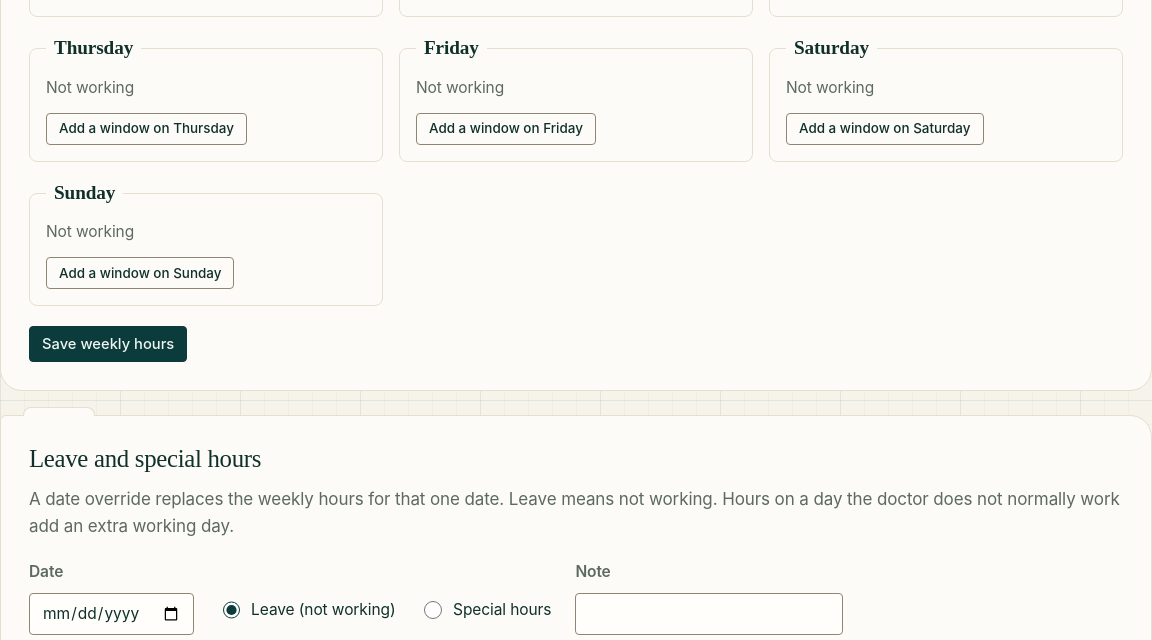
Test case: doctors and availability › shows a refused window as words, with the field, not as JSON
This screenshot has width=1152, height=640.
(page scrolled)
Click the button "Save weekly hours".
click(108, 344)  # box [29,326,187,362]
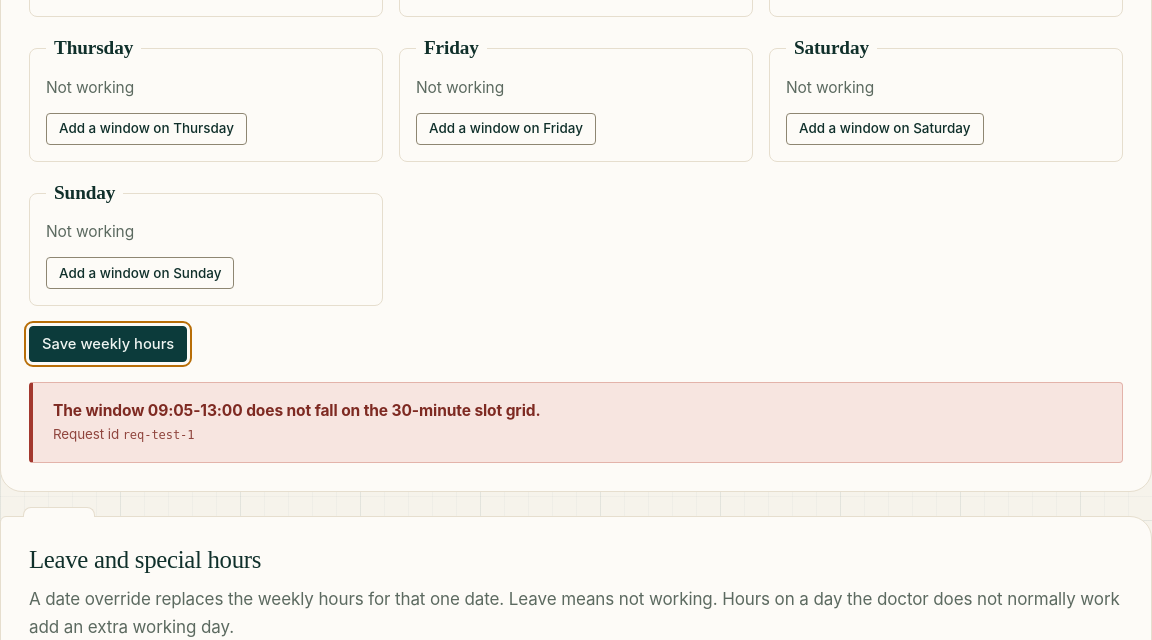
Expected: the message shows "does not fall on the 30-minute slot grid", [53,401,540,420]
